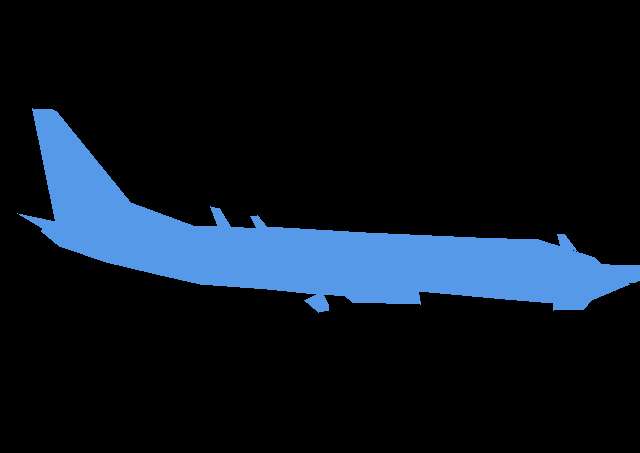Airplane: (17, 108, 629, 312), (557, 234, 640, 283)
